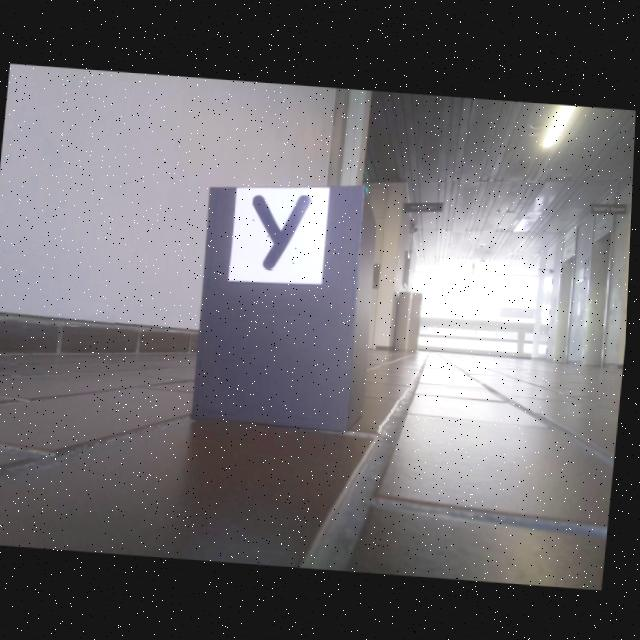Y: (255, 194, 313, 268)
